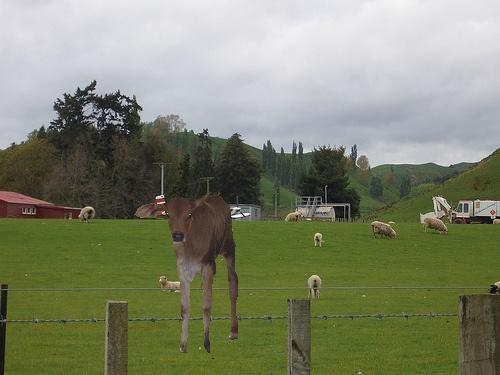tampered: (135, 196, 238, 353)
